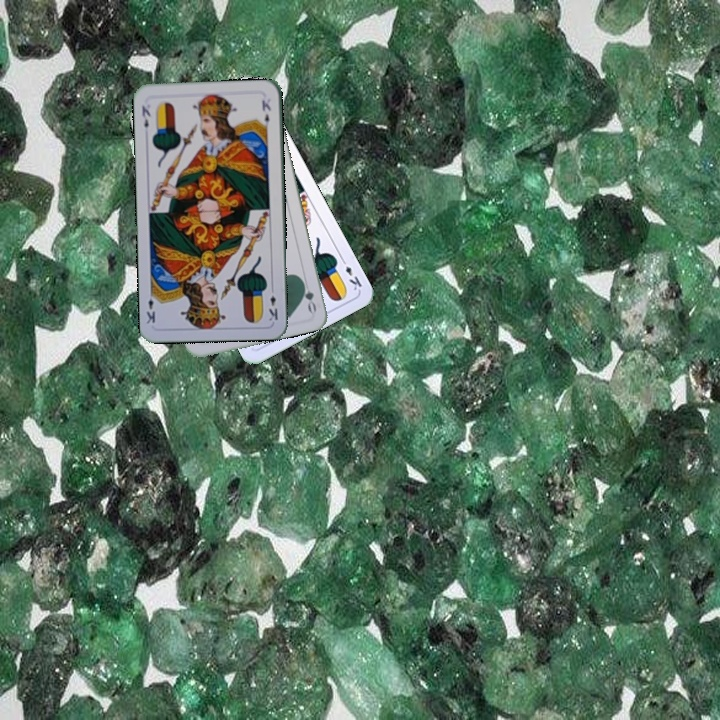EK: (337, 254, 364, 293), (265, 283, 280, 323), (138, 102, 153, 138)
GO: (297, 275, 319, 315)
